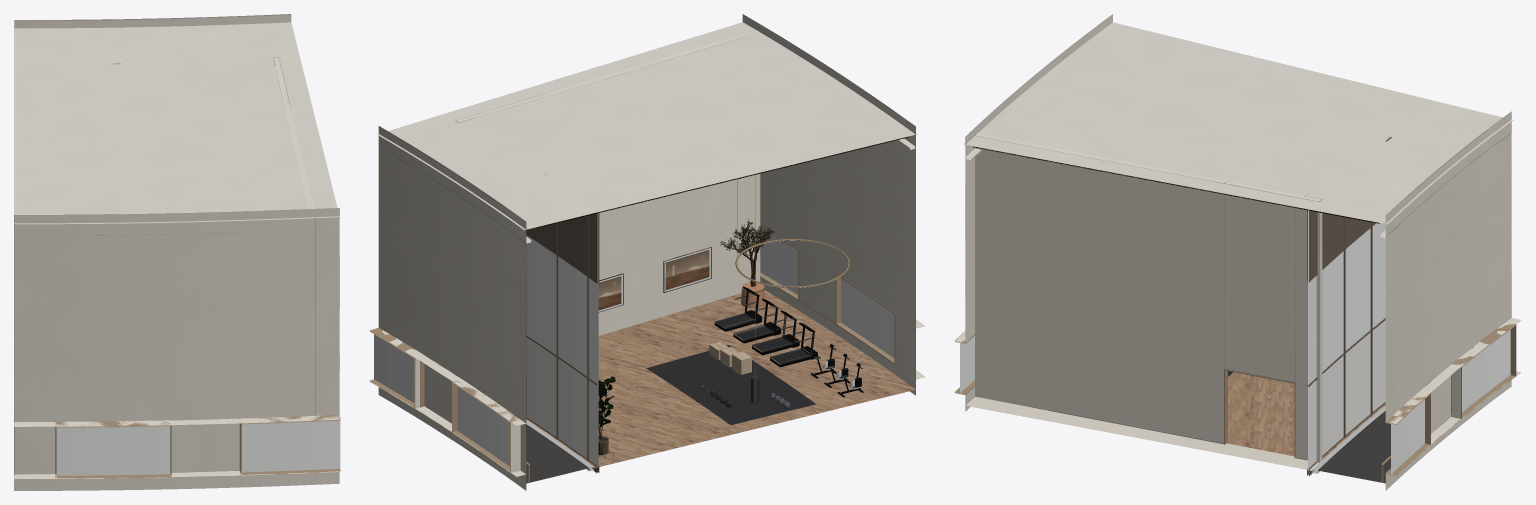
3 views of the same model, side by side, from view 1: azimuth 30°, elevation 25°; view 2: azimuth 150°, elevation 25°; view 3: azimuth 270°, elevation 25° (orthographic). The views are drawn at different scales.
Visible parts, largest first — view 1: c2040; view 2: c2040, c2040 leaves; view 3: c2040, c2040 leaves.
Part boxes in pixels (left/top/right/bottom): c2040: left=14, top=14, right=340, bottom=490; c2040: left=369, top=14, right=925, bottom=490; c2040 leaves: left=532, top=136, right=908, bottom=455; c2040: left=954, top=14, right=1520, bottom=490; c2040 leaves: left=973, top=146, right=1379, bottom=223.
Size of the model in its own units: 21.19 by 13.21 by 24.64.
Materials: 14 (1 with a texture image).
